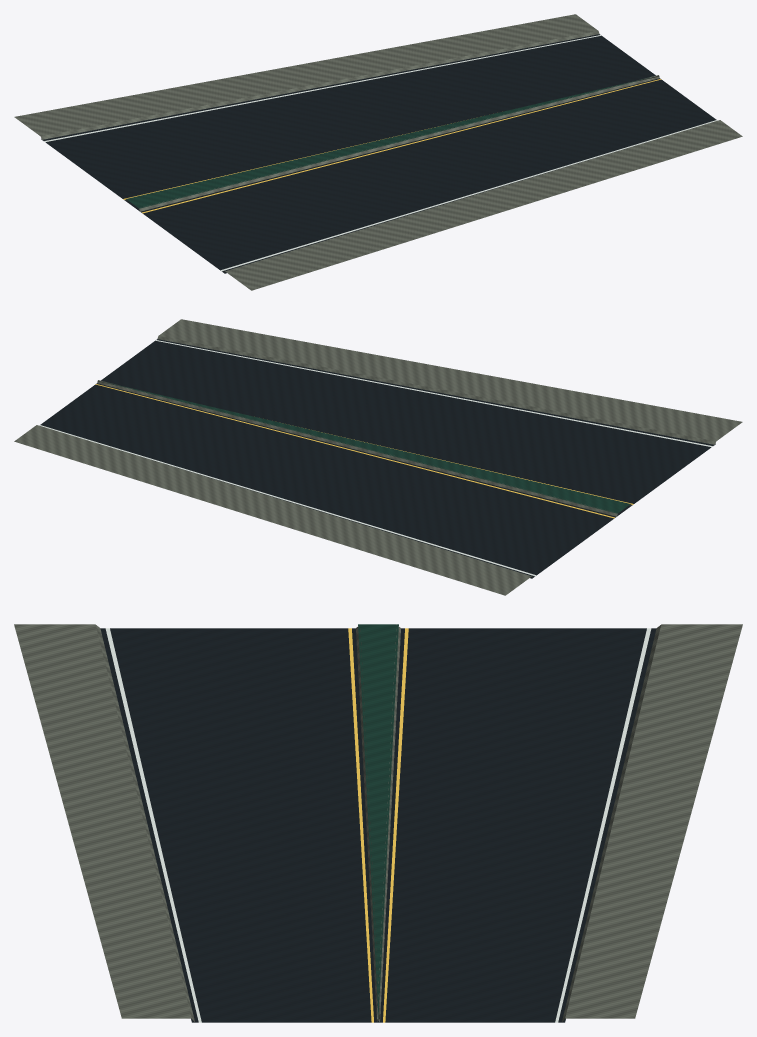
Rendered from road_taper_6to4_32m_LOD2.glb.
3 renders of one model, top to bottom at view 1: azimuth 30°, elevation 25°; view 2: azimuth 150°, elevation 25°; view 3: azimuth 270°, elevation 25°, orthographic. The views are drawn at different scales.
Parts seen in each view (by area): view 1: road_taper_6to4_32m__surface.002, road_taper_6to4_32m__markings.002; view 2: road_taper_6to4_32m__surface.002, road_taper_6to4_32m__markings.002; view 3: road_taper_6to4_32m__surface.002, road_taper_6to4_32m__markings.002.
Boxes of the visible parts, x1,y1,x2,y2 form: road_taper_6to4_32m__surface.002: (14,14,742,290); road_taper_6to4_32m__markings.002: (44,35,717,271); road_taper_6to4_32m__surface.002: (14,319,742,595); road_taper_6to4_32m__markings.002: (39,340,712,576); road_taper_6to4_32m__surface.002: (14,624,742,1022); road_taper_6to4_32m__markings.002: (105,628,651,1022).
Size of the model in its own units: 32 by 0.15 by 25.
Materials: 6 (4 with a texture image).
